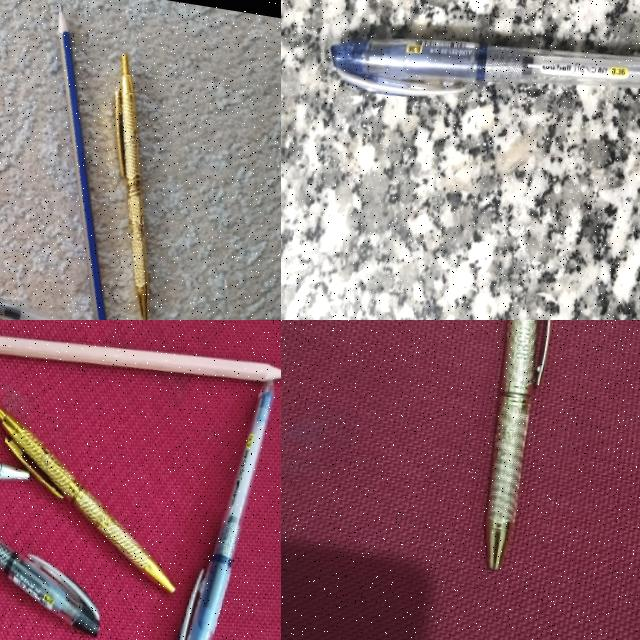pen: (168, 369, 275, 640), (331, 39, 639, 96), (0, 542, 97, 635), (0, 262, 101, 320)
pencil: (0, 320, 281, 401), (58, 5, 106, 320)
signature pen: (0, 410, 174, 592), (80, 60, 180, 317), (486, 320, 550, 569)
